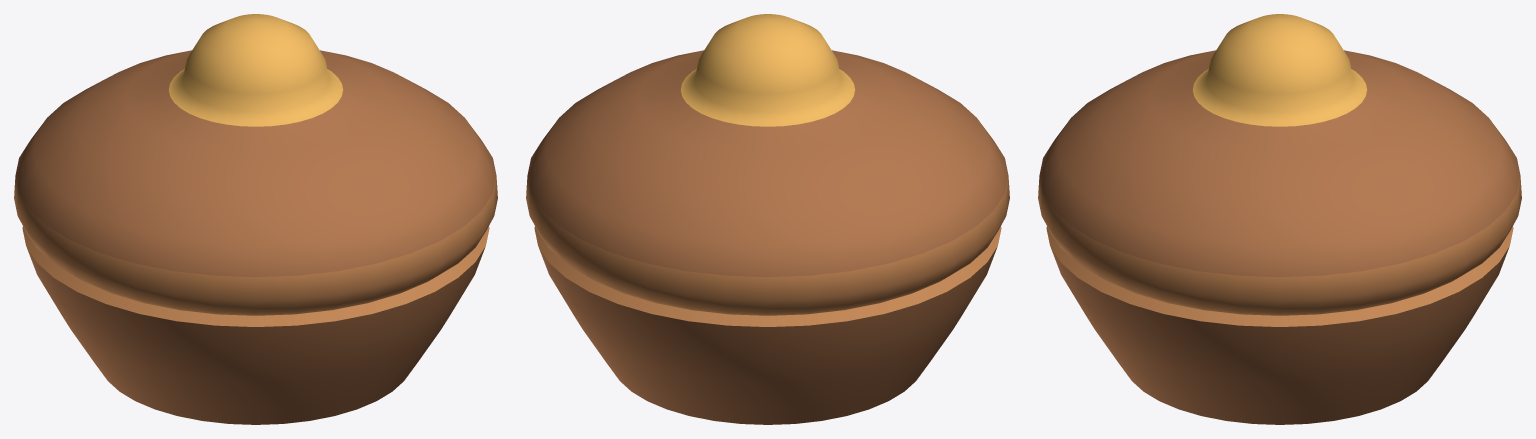
File: gamelar_kenong.fbx
3 views of the same model, side by side, from view 1: azimuth 30°, elevation 25°; view 2: azimuth 150°, elevation 25°; view 3: azimuth 270°, elevation 25° (orthographic).
Parts seen in each view (by area): view 1: Kenong_Mesh; view 2: Kenong_Mesh; view 3: Kenong_Mesh.
Part boxes in pixels (left/top/right/bottom): Kenong_Mesh: left=14, top=14, right=497, bottom=424; Kenong_Mesh: left=526, top=14, right=1009, bottom=424; Kenong_Mesh: left=1038, top=14, right=1521, bottom=424.
Bounding box in the file's own units: 0.344 × 0.2643 × 0.344.
